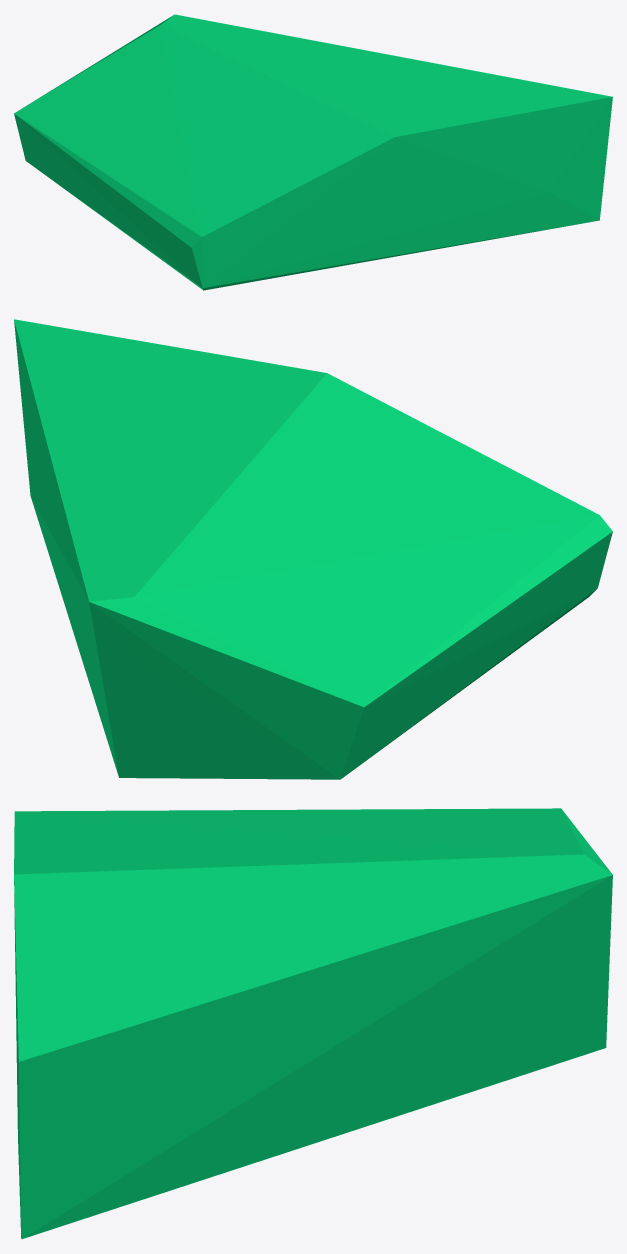
Rendered from shoulder-roll-housing_convex_piece_010.obj.
The picture shows the model from 3 angles, top to bottom: view 1: azimuth 30°, elevation 25°; view 2: azimuth 150°, elevation 25°; view 3: azimuth 270°, elevation 25°; orthographic projection. The views are drawn at different scales.
Bounding box in the file's own units: 0.0833 × 0.0255 × 0.0662.
